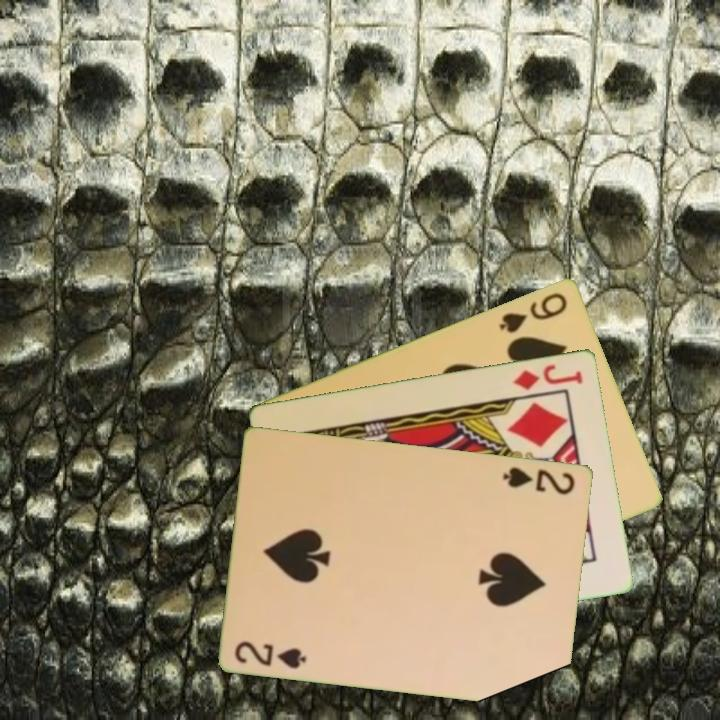2s: (500, 463, 578, 497), (232, 637, 309, 671)
9s: (495, 288, 571, 336)
Jd: (510, 360, 586, 393)
